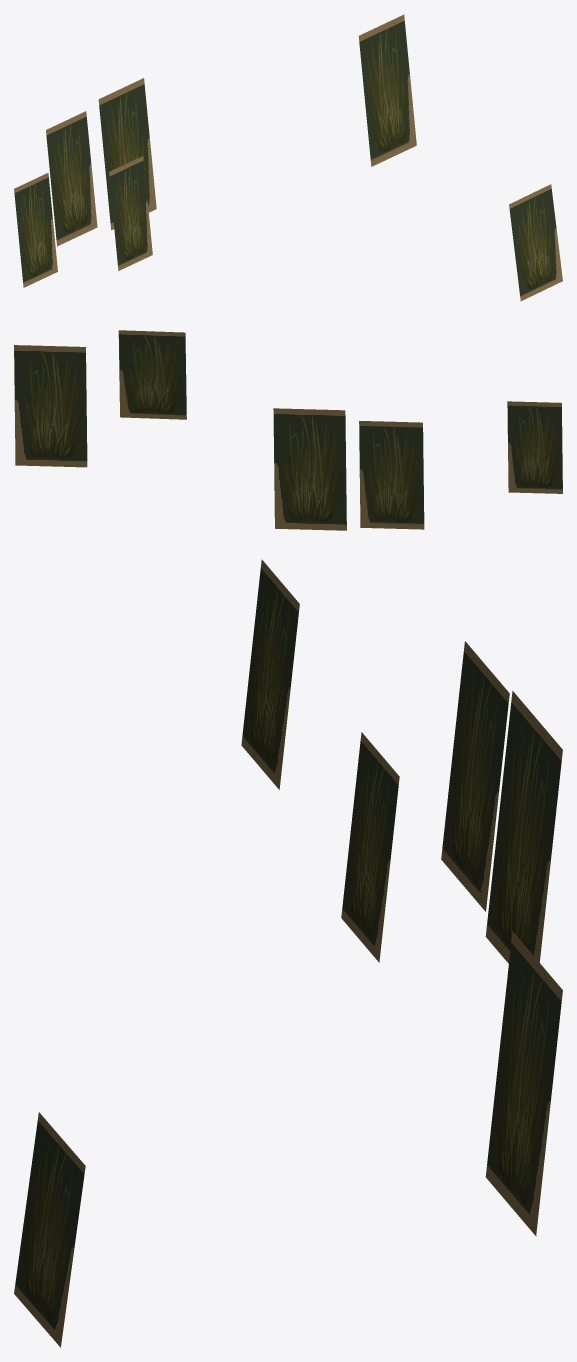
File: object_grass_polys08.fbx
The picture shows the model from 3 angles, top to bottom: view 1: azimuth 30°, elevation 25°; view 2: azimuth 150°, elevation 25°; view 3: azimuth 270°, elevation 25°; orthographic projection. The views are drawn at different scales.
Parts seen in each view (by area): view 1: Material_#238683980/town_grass_mat; view 2: Material_#238683980/town_grass_mat; view 3: Material_#238683980/town_grass_mat.
Part boxes in pixels (box(x1,y1,x2,y2)): Material_#238683980/town_grass_mat: box(14, 14, 562, 301); Material_#238683980/town_grass_mat: box(14, 330, 562, 530); Material_#238683980/town_grass_mat: box(14, 559, 562, 1347).
Bounding box in the file's own units: 9.37 × 3.22 × 4.74.
